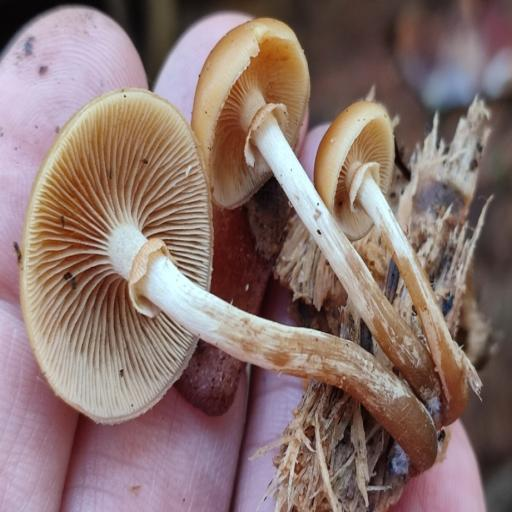mushroom: (16, 14, 479, 512)
